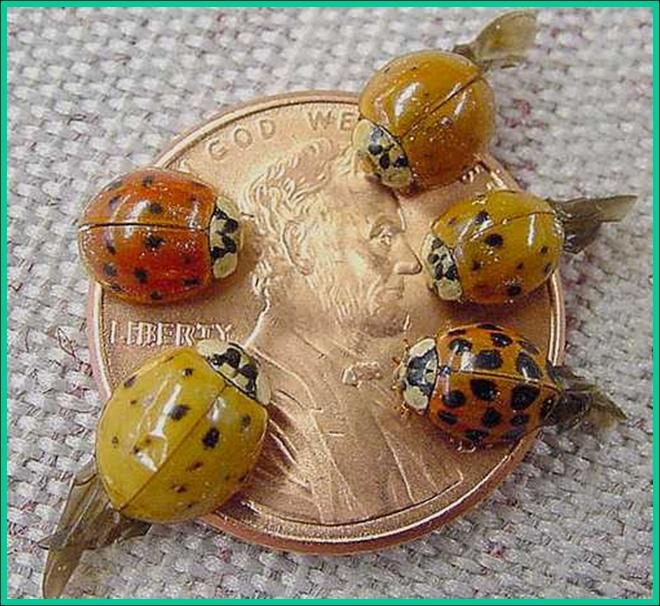asian multicolored lady: (73, 336, 293, 529), (387, 315, 598, 476), (331, 35, 521, 197), (75, 167, 262, 311), (405, 196, 585, 326)
